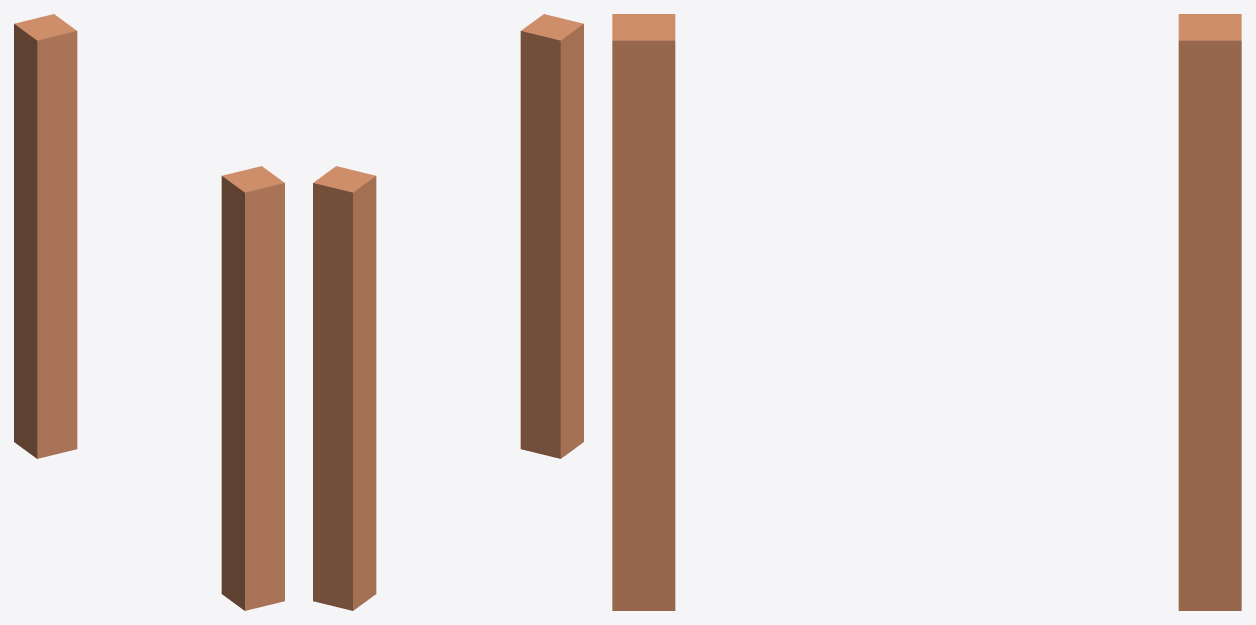
File: poles.fbx
The picture shows the model from 3 angles, left to right: view 1: azimuth 30°, elevation 25°; view 2: azimuth 150°, elevation 25°; view 3: azimuth 270°, elevation 25°; orthographic projection. The views are drawn at different scales.
Visible parts, largest first — view 1: poles; view 2: poles; view 3: poles.
Boxes of the visible parts, x1,y1,x2,y2 form: poles: (14, 14, 284, 610); poles: (313, 14, 583, 610); poles: (612, 14, 1241, 610).
Bounding box in the file's own units: 1 × 10 × 10.
